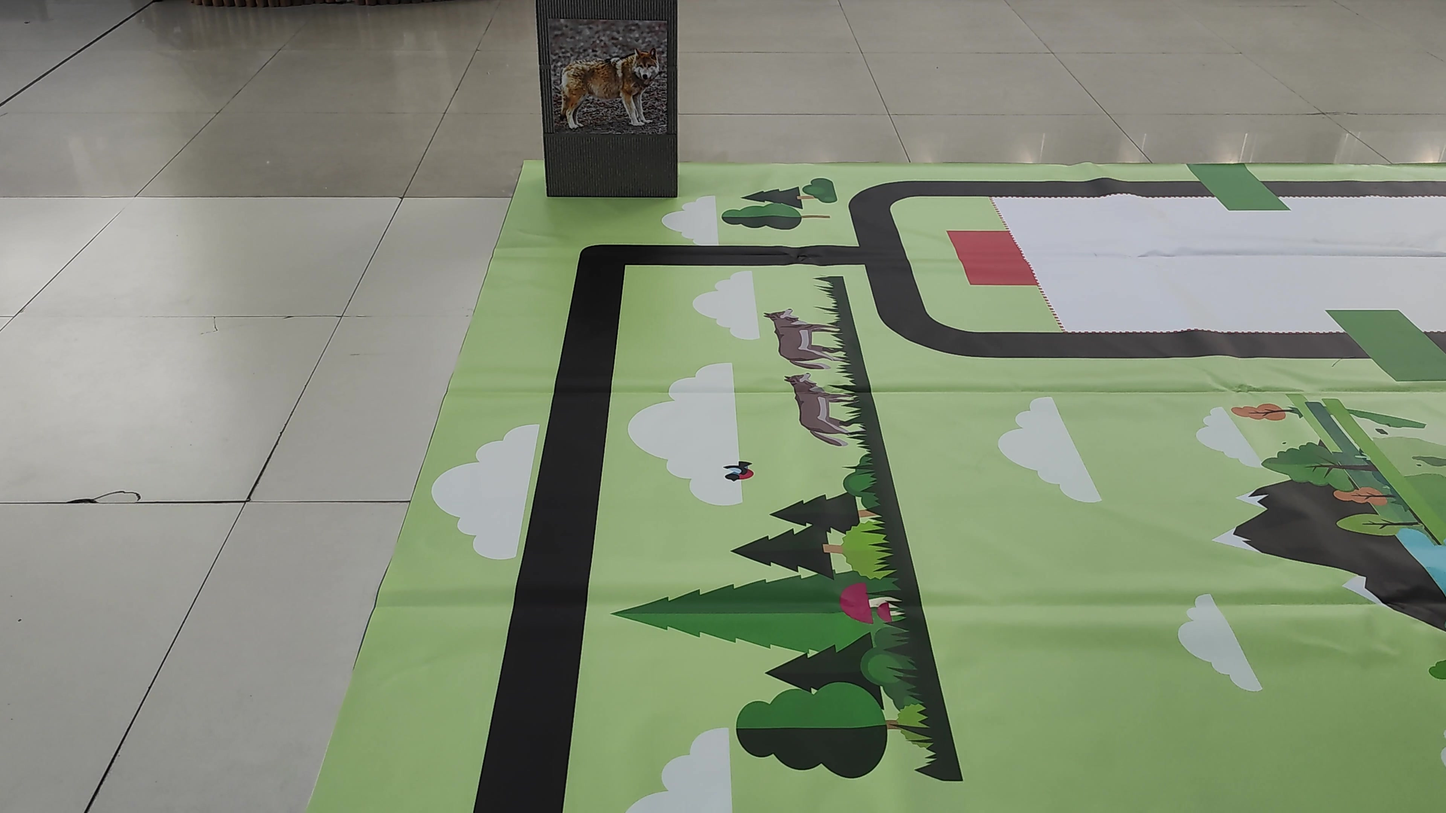wolf: (555, 31, 668, 132)
